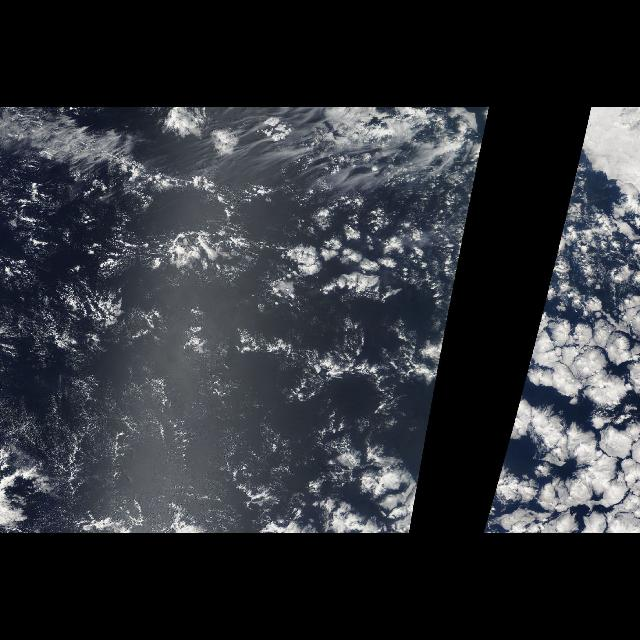Flower: (484, 312, 622, 530), (261, 209, 401, 307), (419, 312, 451, 482)
Gravel: (10, 172, 258, 274)
Sugar: (1, 151, 363, 534)
